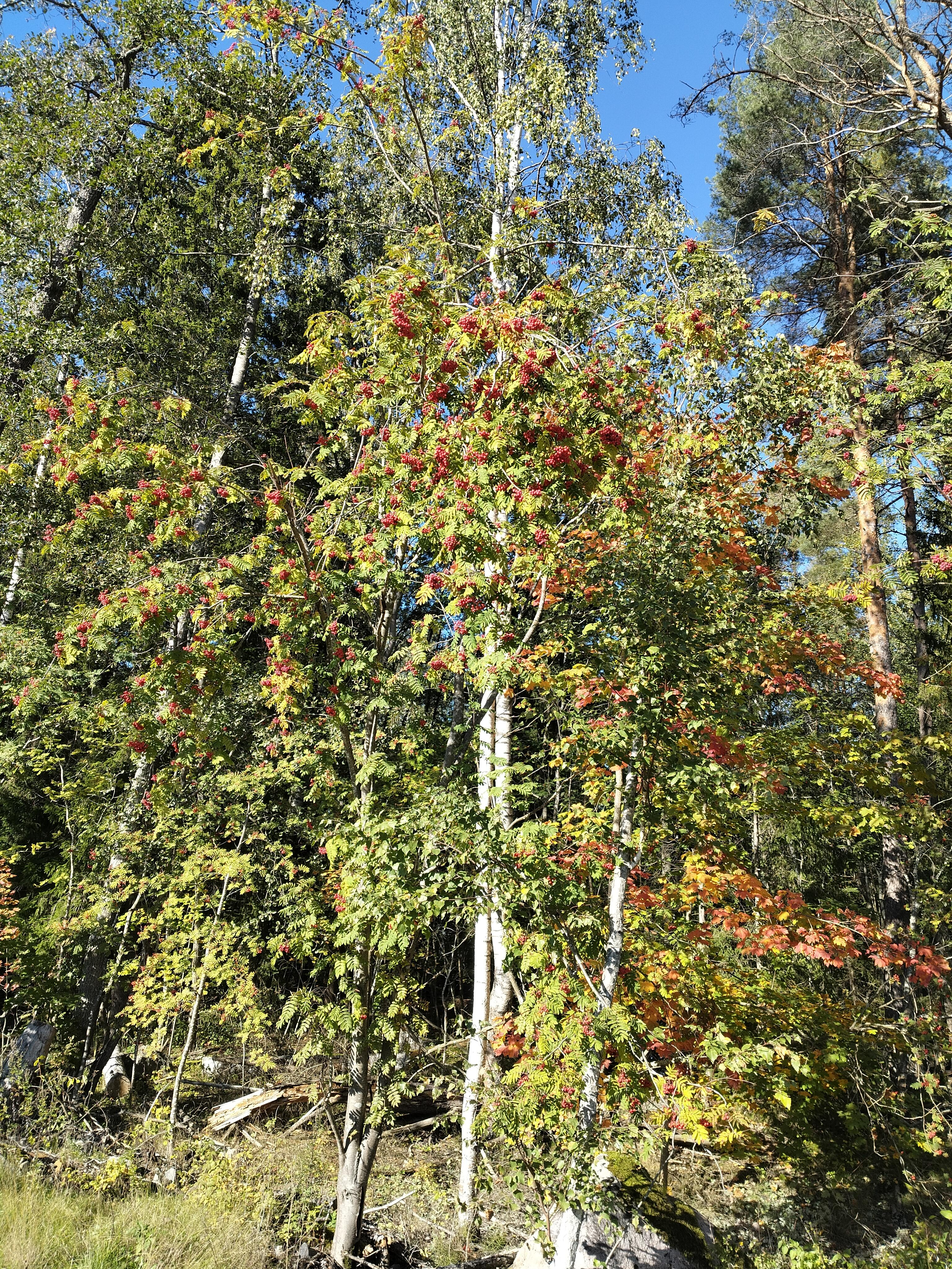Rowan: (2, 3, 949, 1263), (0, 14, 387, 1251), (263, 205, 655, 1218)
